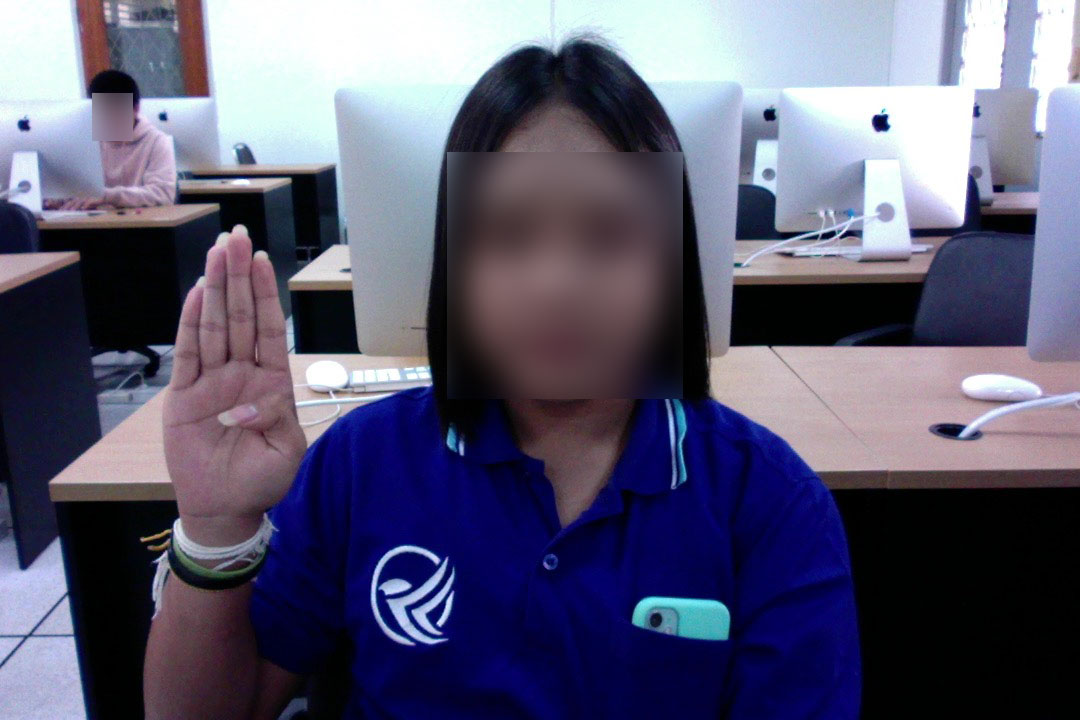bor: (153, 218, 314, 532)
